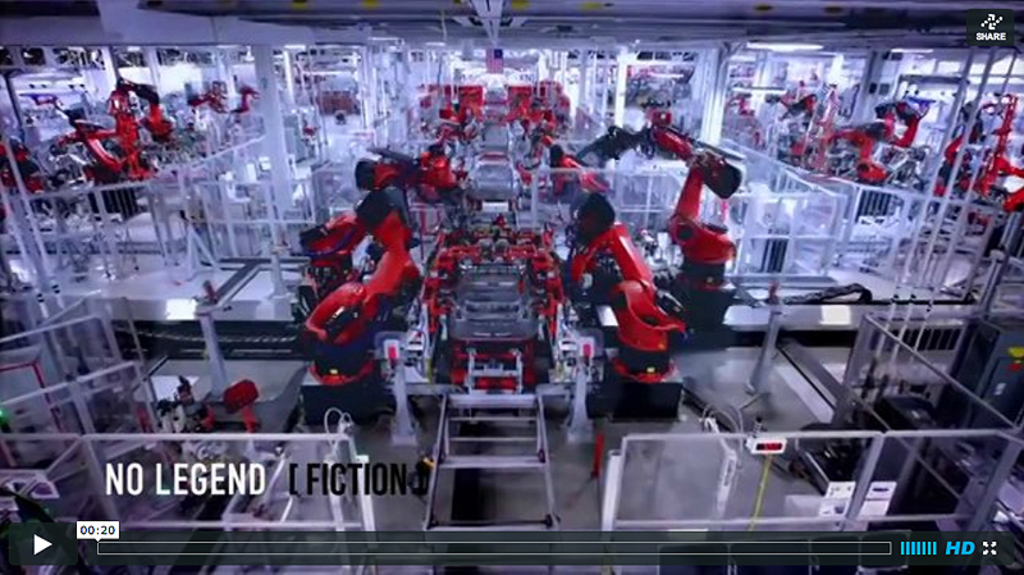person: (818, 118, 916, 182)
